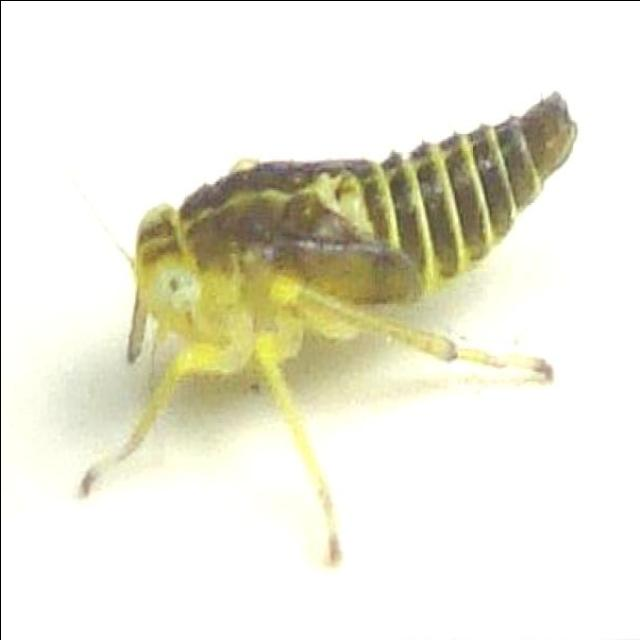green leaf hopper: (79, 92, 575, 557)
